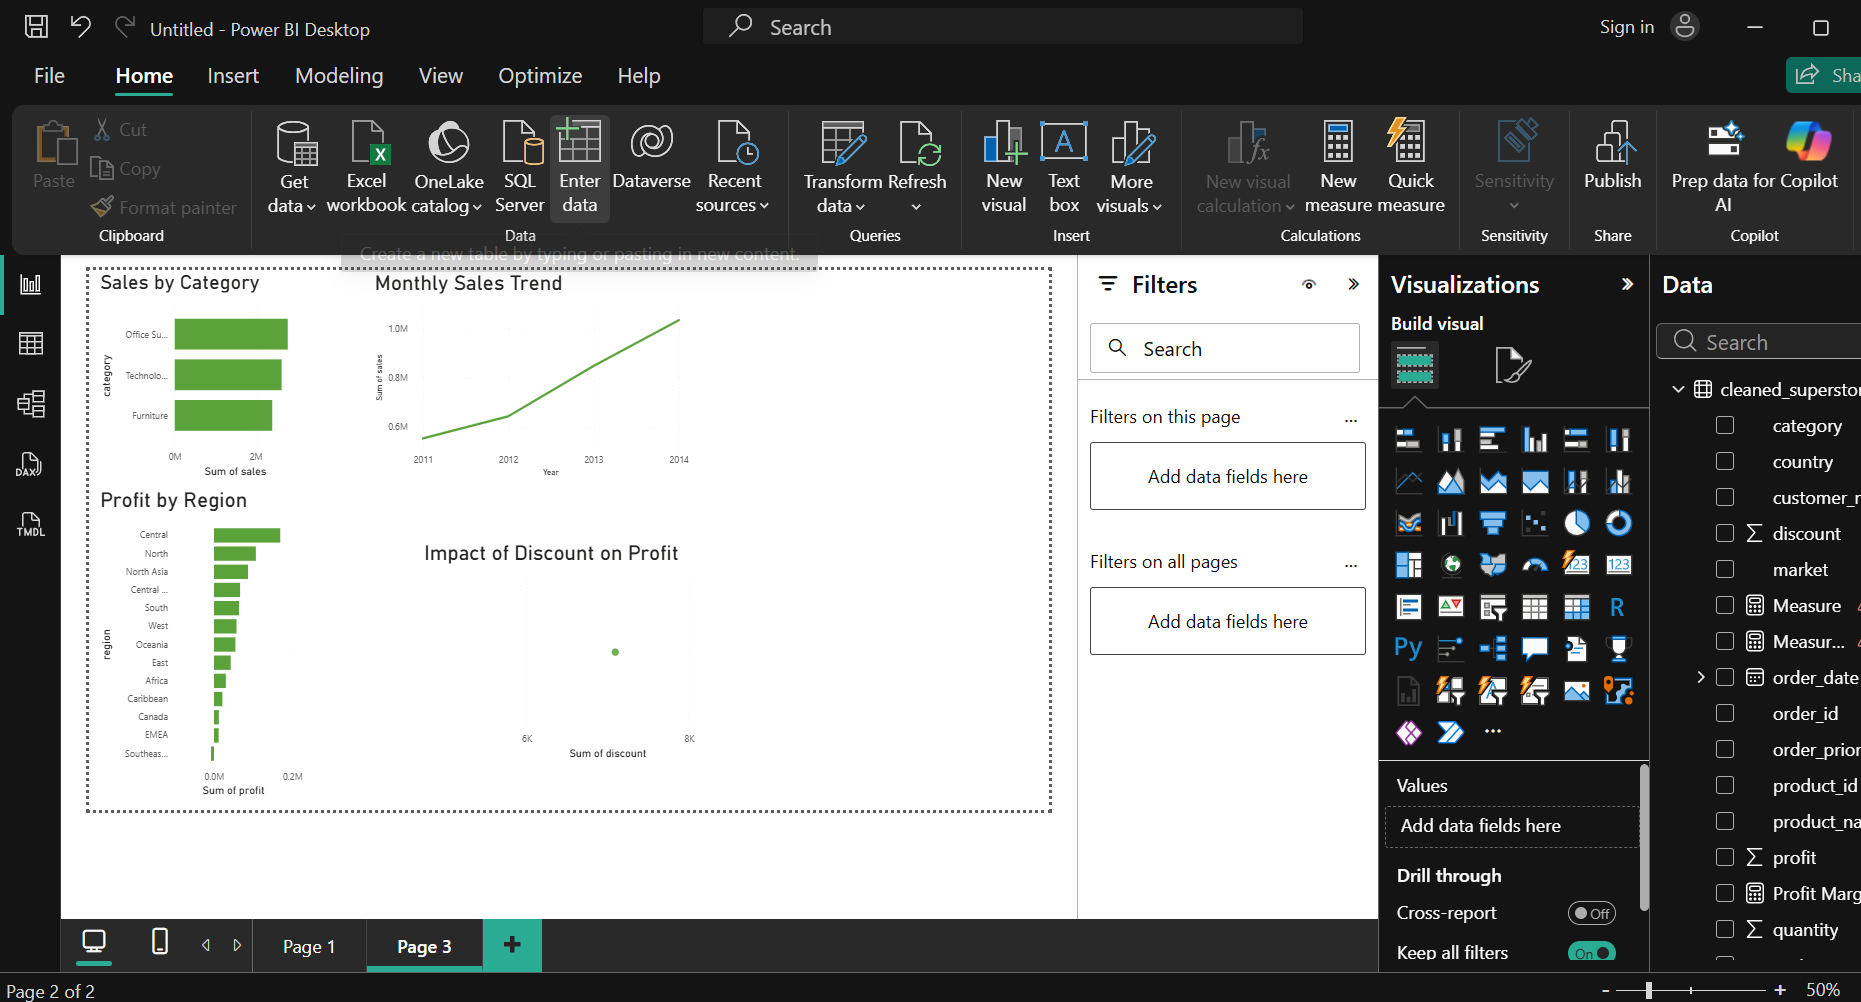

The page's visual inventory and layout, read from the dashboard file:
{"tool":"powerbi","page":{"name":"Page 3","canvas":[1280,720],"ordinal":2},"visuals":[{"type":"clusteredBarChart","title":" Sales by Category","fields":{"Y":["Sum(cleaned_superstore.sales)"],"Category":["cleaned_superstore.category"]},"box":[10,0,280,280],"z":0},{"type":"barChart","title":"Profit by Region","fields":{"Category":["cleaned_superstore.region"],"Y":["Sum(cleaned_superstore.profit)"]},"box":[548,0,280,382],"z":1000},{"type":"lineChart","title":"Monthly Sales Trend","fields":{"Category":["cleaned_superstore.order_date.Variation.Date Hierarchy.Year","cleaned_superstore.order_date.Variation.Date Hierarchy.Quarter","cleaned_superstore.order_date.Variation.Date Hierarchy.Month","cleaned_superstore.order_date.Variation.Date Hierarchy.Day"],"Y":["Sum(cleaned_superstore.sales)"]},"box":[548,440,428,280],"z":2000},{"type":"scatterChart","title":"Impact of Discount on Profit","fields":{"X":["Sum(cleaned_superstore.discount)"]},"box":[0,424,478,296],"z":3000}]}

Visuals, with their boxes on the page's 1280x720 design canvas (x1, y1, x2, y2). These are canvas units, not pixel positions in the 1861x1002 screenshot, which may show the page scaled, cropped or inside an application window:
" Sales by Category" clusteredBarChart: x1=10 y1=0 x2=290 y2=280
"Profit by Region" barChart: x1=548 y1=0 x2=828 y2=382
"Monthly Sales Trend" lineChart: x1=548 y1=440 x2=976 y2=720
"Impact of Discount on Profit" scatterChart: x1=0 y1=424 x2=478 y2=720
